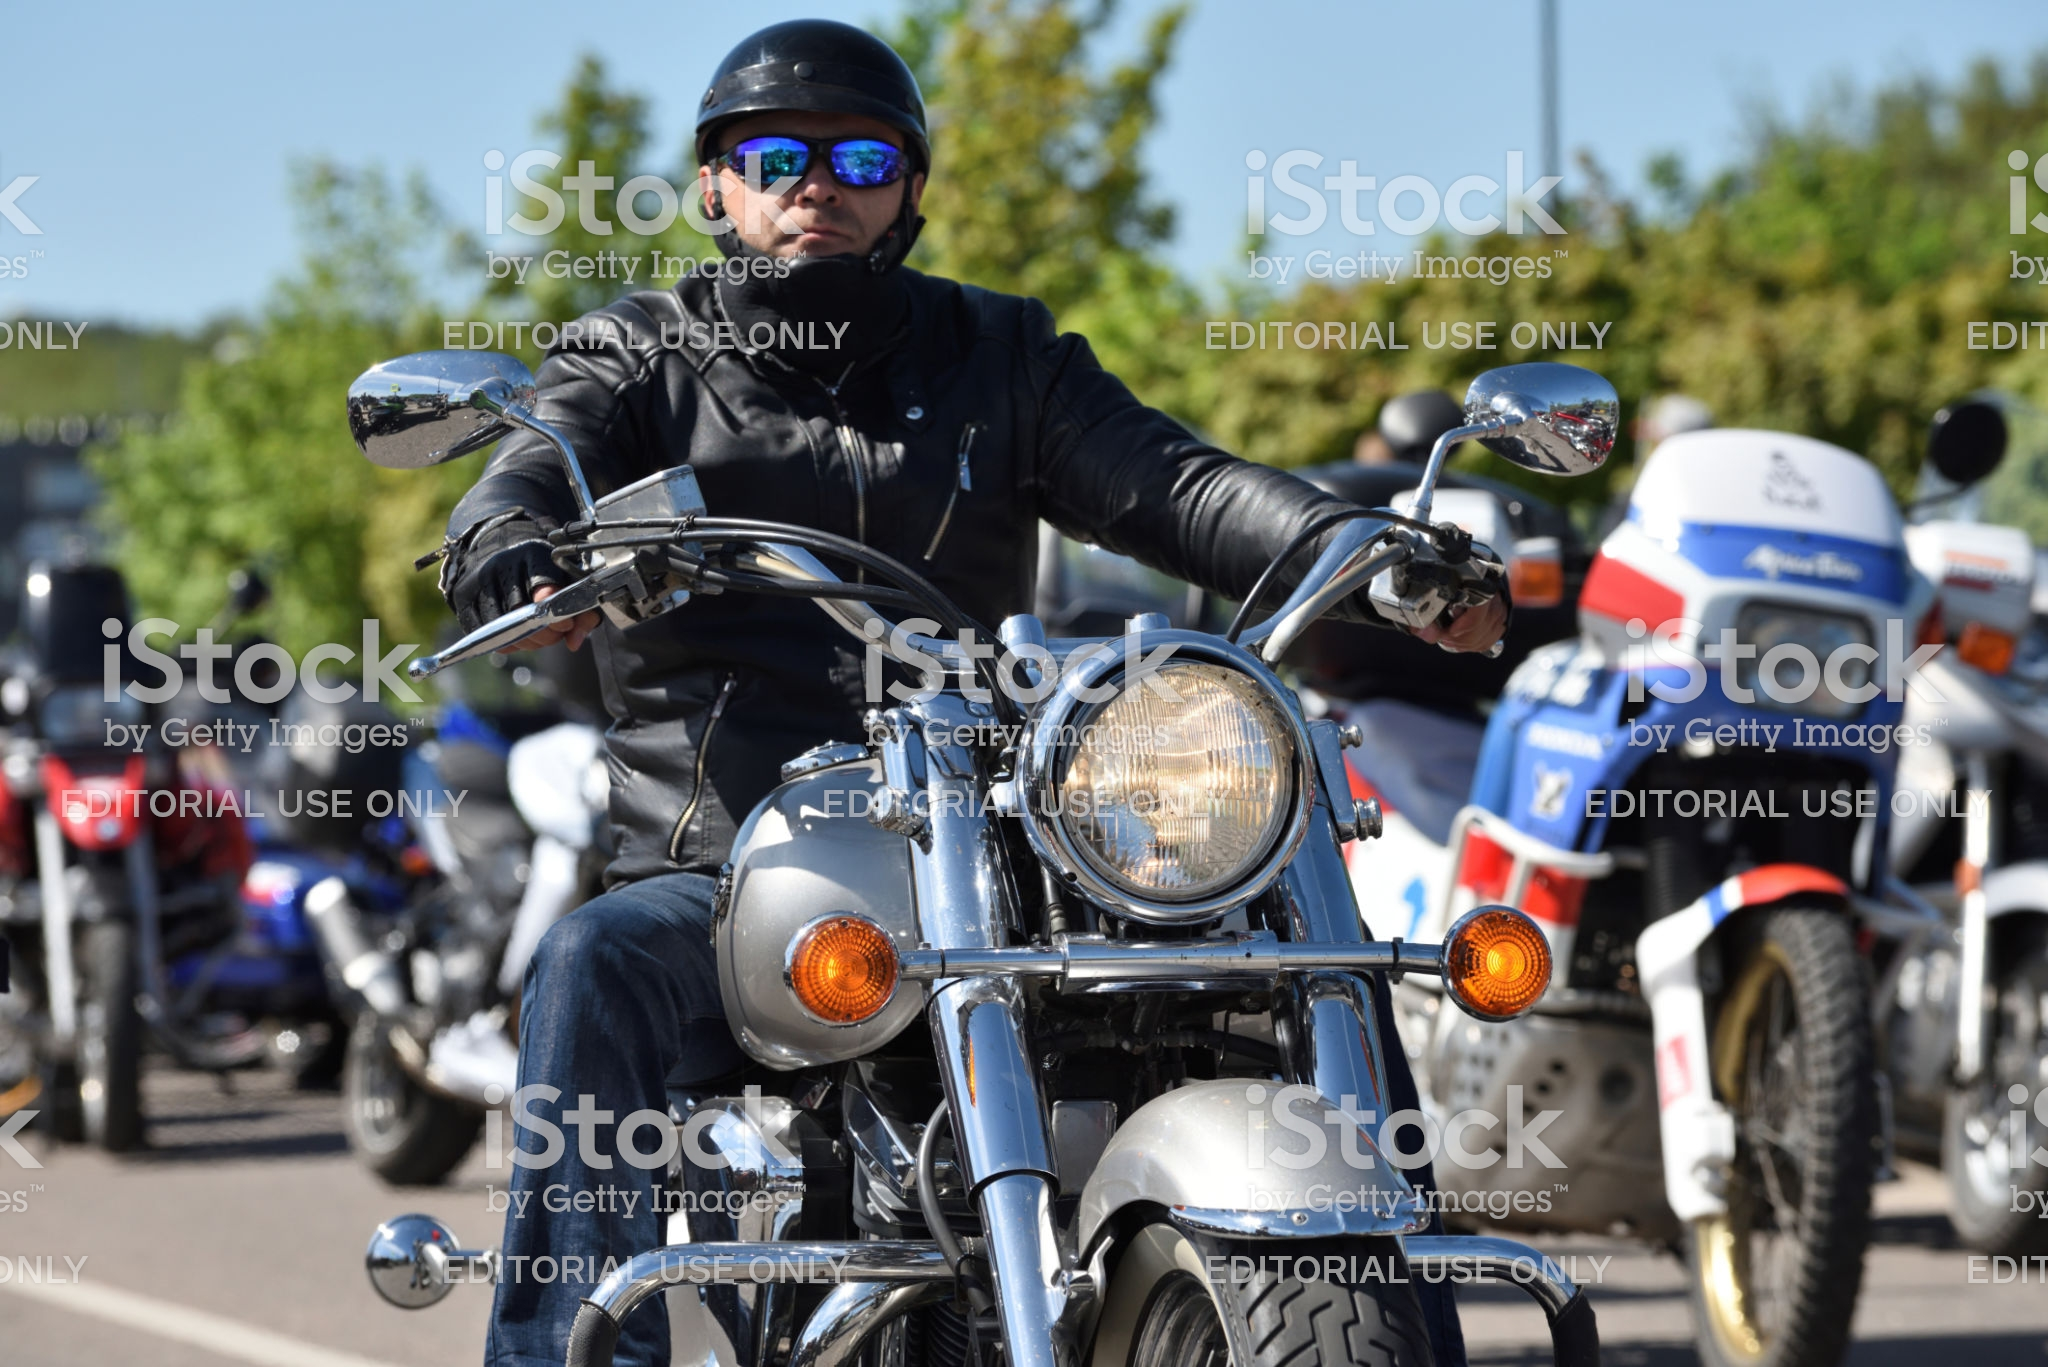helmet: (666, 31, 933, 182)
